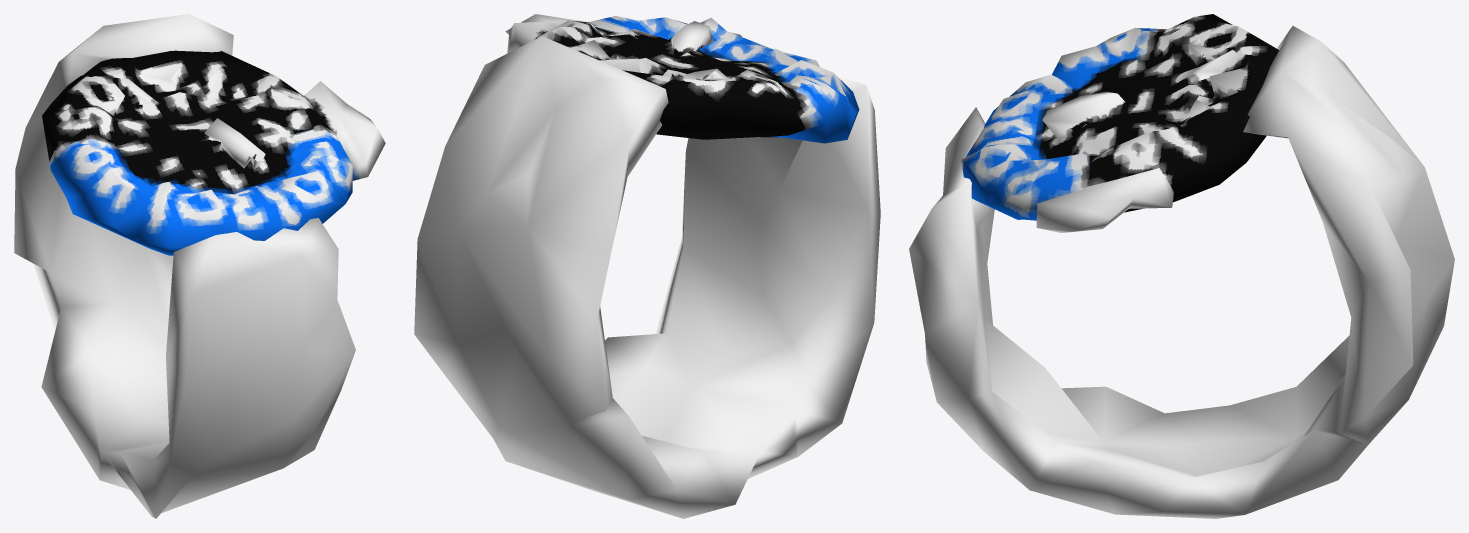
File: sub bat (blue-black).glb
3 renders of one model, left to right at view 1: azimuth 30°, elevation 25°; view 2: azimuth 150°, elevation 25°; view 3: azimuth 270°, elevation 25°, orthographic. The views are drawn at different scales.
Visible parts, largest first — view 1: watch_sub_bat_blue_black.001; view 2: watch_sub_bat_blue_black.001; view 3: watch_sub_bat_blue_black.001.
Boxes of the visible parts, box(x1,y1,x2,y2) form: watch_sub_bat_blue_black.001: box(14, 14, 385, 518); watch_sub_bat_blue_black.001: box(414, 14, 880, 518); watch_sub_bat_blue_black.001: box(909, 14, 1454, 518).
Bounding box in the file's own units: 0.0372 × 0.0491 × 0.0512.
2 materials, 2 textured.
